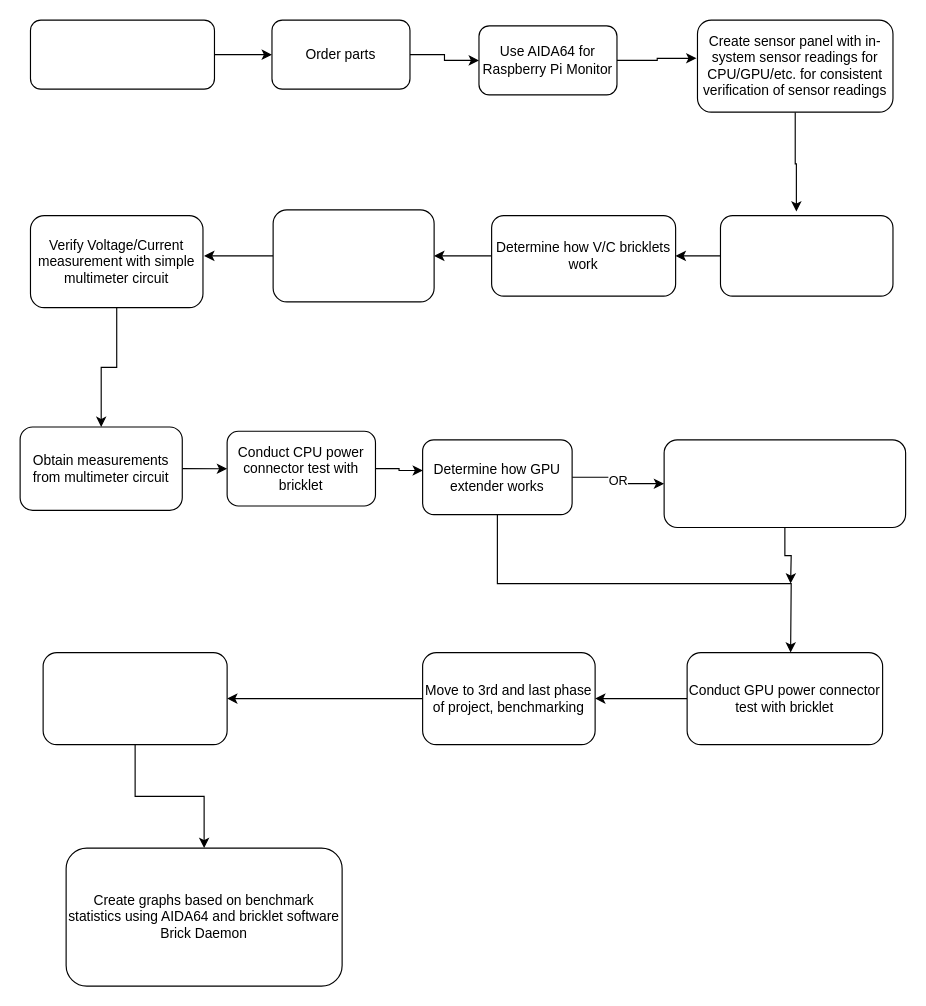
This 926x1006 diagram has some shape labels left out. The shapes that lost their labels are listed below. From the top down, each one's centre as x and y in pixels, then its label:
point 121,54: Determine parts needed
point 353,255: Create layout circuit/method with PSU cables
point 806,255: Move to 2nd phase of project, physical circuit measurement
point 784,483: Determine different methods to measure gpu power
point 134,698: Benchmark Idle, Gaming, stress tests, video players, numerical programs
